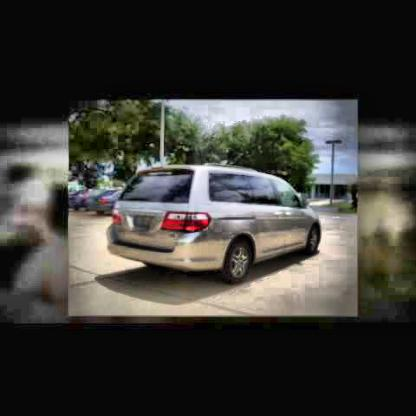Honda Odyssey Minivan 2007: (108, 165, 322, 285)
